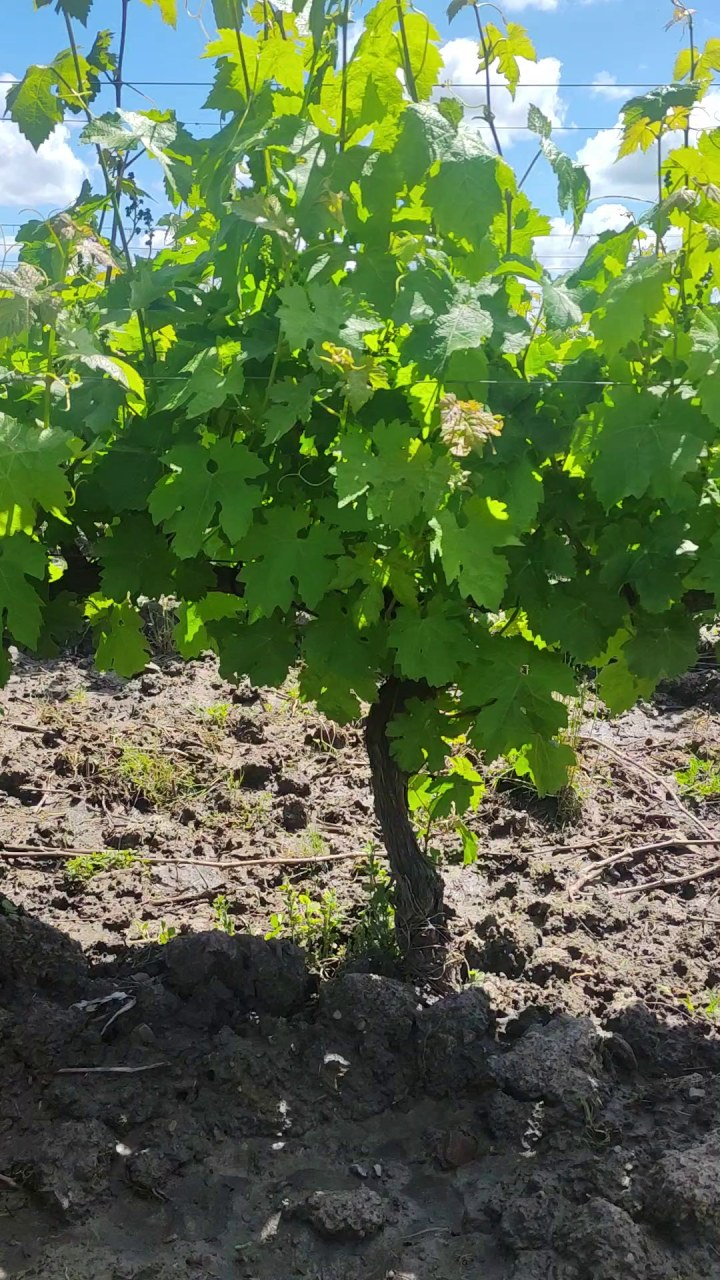vine_trunk: (359, 645, 473, 941)
